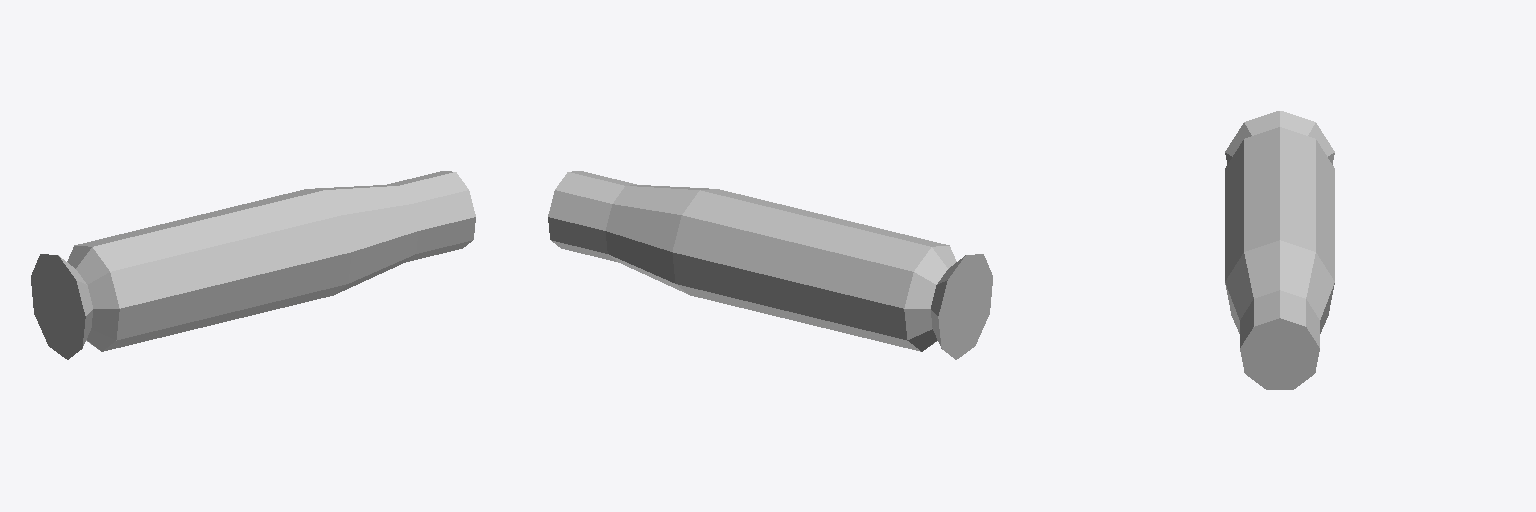
The model's file is 762 cartridge.obj.
3 renders of one model, left to right at view 1: azimuth 30°, elevation 25°; view 2: azimuth 150°, elevation 25°; view 3: azimuth 270°, elevation 25°, orthographic.
Parts seen in each view (by area): view 1: Cylinder_Cylinder.001, Plane; view 2: Cylinder_Cylinder.001, Plane; view 3: Cylinder_Cylinder.001.
Boxes of the visible parts, box(x1,y1,x2,y2) form: Cylinder_Cylinder.001: box(31, 171, 475, 359); Plane: box(46, 281, 65, 331); Cylinder_Cylinder.001: box(548, 171, 992, 359); Plane: box(958, 281, 977, 331); Cylinder_Cylinder.001: box(1225, 111, 1334, 389).
Size of the model in its own units: 0.1258 by 0.0295 by 0.03.